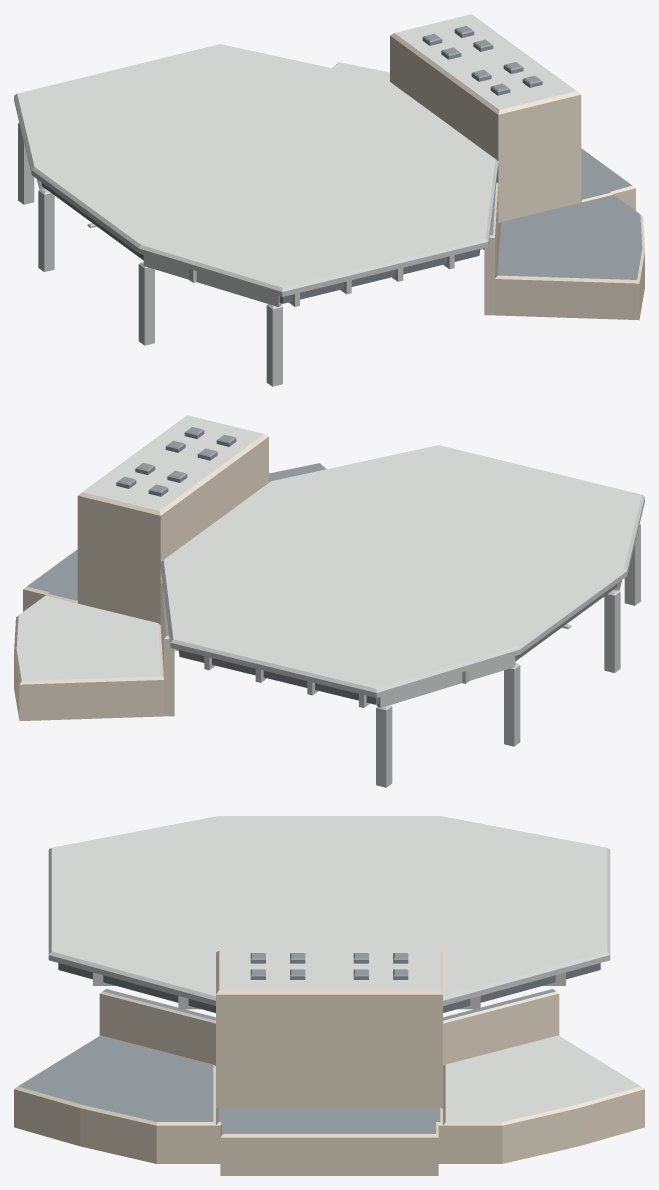
The picture shows the model from 3 angles, top to bottom: view 1: azimuth 30°, elevation 25°; view 2: azimuth 150°, elevation 25°; view 3: azimuth 270°, elevation 25°; orthographic projection. The views are drawn at different scales.
Parts seen in each view (by area): view 1: truliant-amphitheater; view 2: truliant-amphitheater; view 3: truliant-amphitheater.
Boxes of the visible parts, box(x1,y1,x2,y2) form: truliant-amphitheater: box(14, 14, 644, 386); truliant-amphitheater: box(14, 415, 644, 787); truliant-amphitheater: box(14, 816, 644, 1175).
Size of the model in its own units: 87.1 by 25.6 by 91.2.
